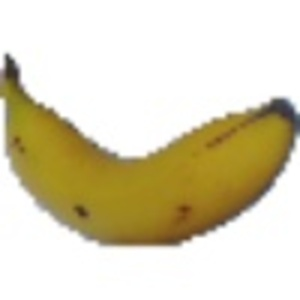banana: (1, 49, 297, 250)
